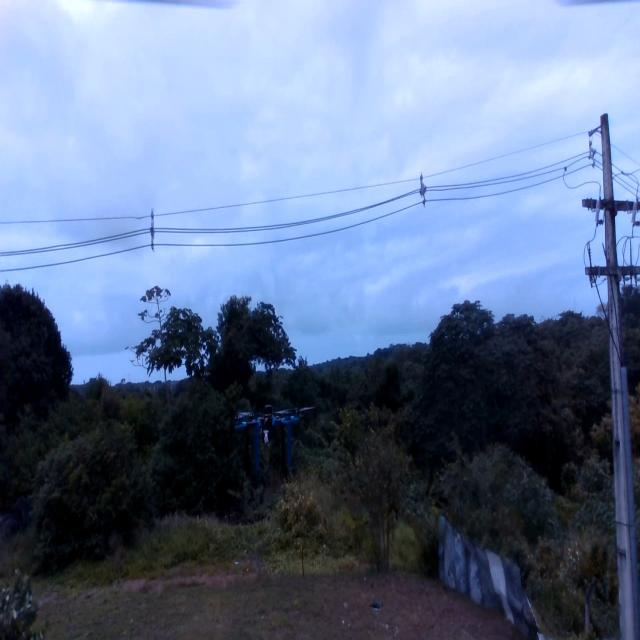-uav-: (229, 397, 320, 477)
